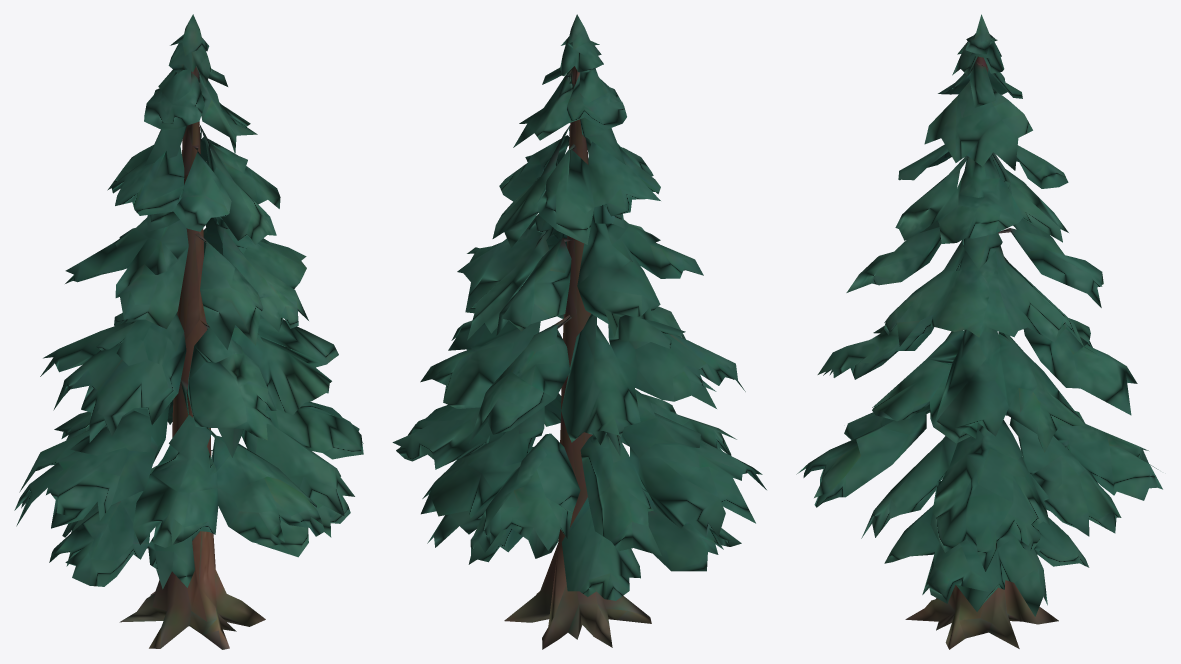
File: pine.glb
3 renders of one model, left to right at view 1: azimuth 30°, elevation 25°; view 2: azimuth 150°, elevation 25°; view 3: azimuth 270°, elevation 25°, orthographic.
Parts seen in each view (by area): view 1: tripo_node_7b43cfa0-9185-4a70-a6cd-f335870aae8b; view 2: tripo_node_7b43cfa0-9185-4a70-a6cd-f335870aae8b; view 3: tripo_node_7b43cfa0-9185-4a70-a6cd-f335870aae8b.
Part boxes in pixels (<box>): tripo_node_7b43cfa0-9185-4a70-a6cd-f335870aae8b: <box>14,14,363,649</box>; tripo_node_7b43cfa0-9185-4a70-a6cd-f335870aae8b: <box>392,14,766,649</box>; tripo_node_7b43cfa0-9185-4a70-a6cd-f335870aae8b: <box>796,14,1162,649</box>.
Bounding box in the file's own units: 0.6029 × 0.9989 × 0.5499.
1 material, 1 textured.
